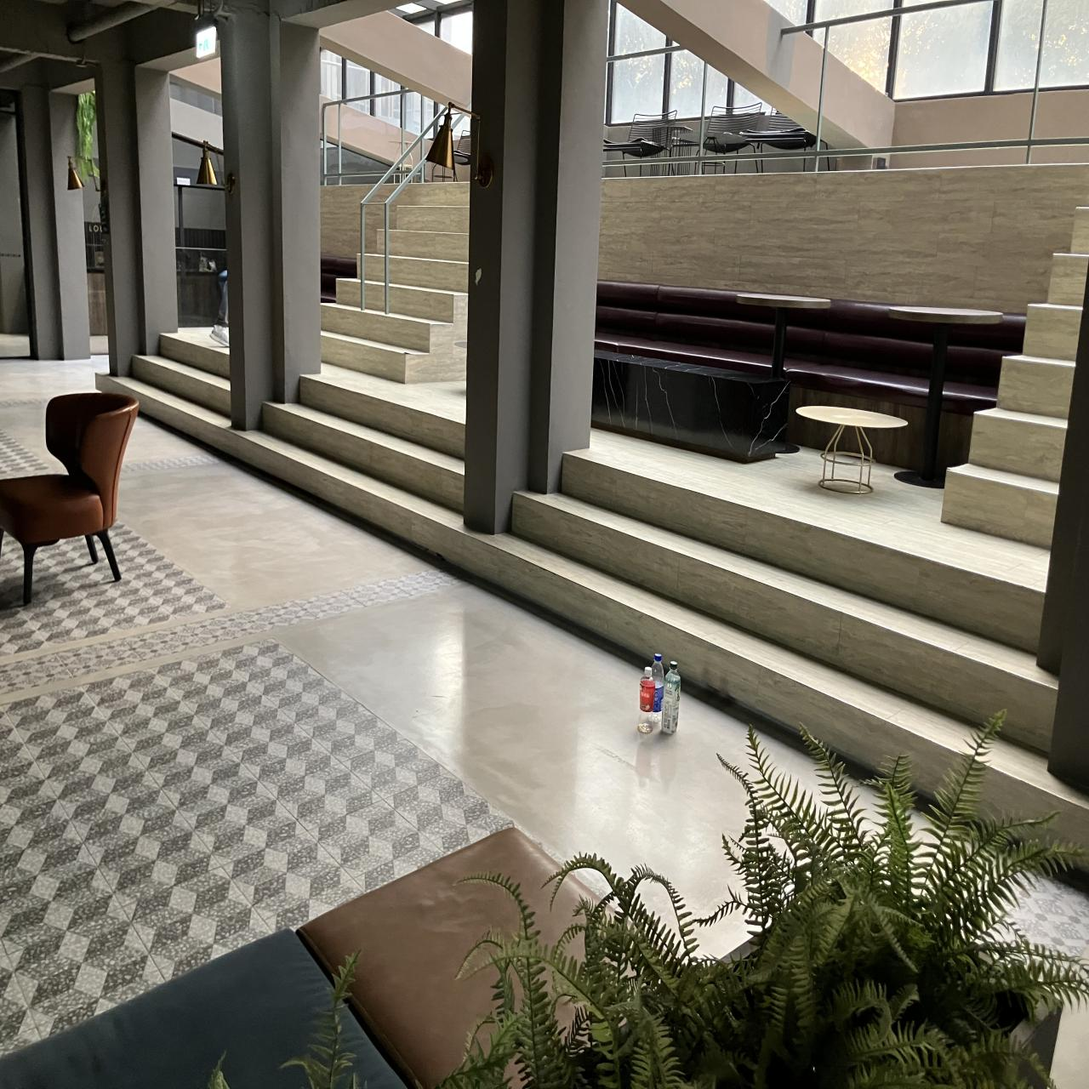plastic-bottle: (661, 661, 681, 735), (638, 667, 655, 733), (652, 653, 665, 726)
